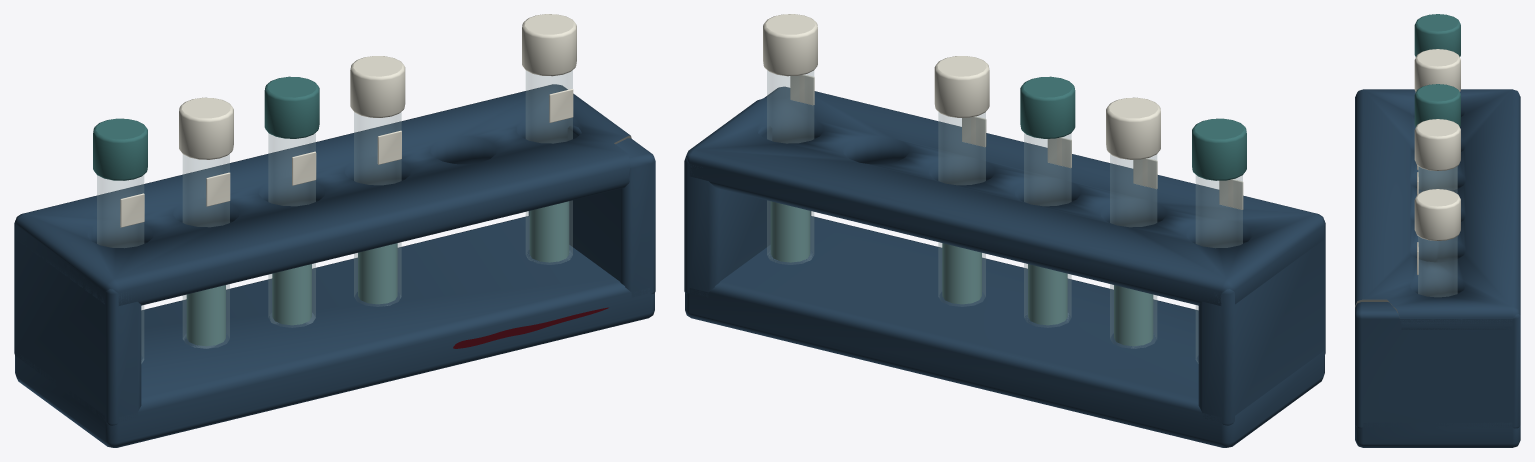
The model's file is lab_sample_rack.glb.
The picture shows the model from 3 angles, left to right: view 1: azimuth 30°, elevation 25°; view 2: azimuth 150°, elevation 25°; view 3: azimuth 270°, elevation 25°; orthographic projection. The views are drawn at different scales.
Parts seen in each view (by area): view 1: Static_Shell_Mesh; view 2: Static_Shell_Mesh; view 3: Static_Shell_Mesh.
Boxes of the visible parts, x1,y1,x2,y2 form: Static_Shell_Mesh: [14, 14, 655, 447]; Static_Shell_Mesh: [684, 14, 1325, 447]; Static_Shell_Mesh: [1355, 14, 1520, 447].
Bounding box in the file's own units: 0.32 × 0.1525 × 0.1005.
